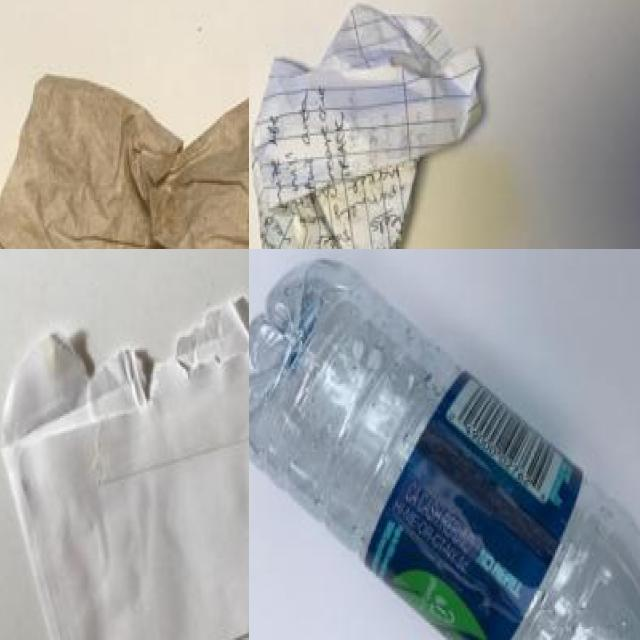paper: (16, 249, 249, 640), (250, 3, 501, 249)
plastic: (249, 249, 640, 640)
trash: (0, 47, 249, 249)
